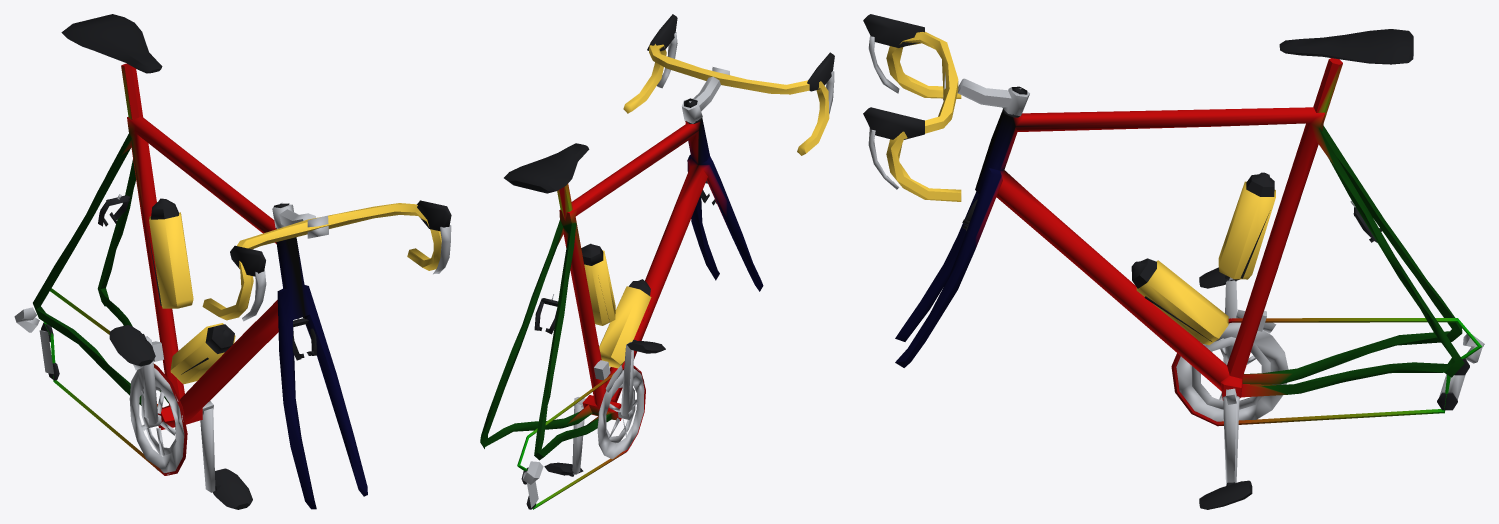
Rendered from retro_lod1.glb.
3 renders of one model, left to right at view 1: azimuth 30°, elevation 25°; view 2: azimuth 150°, elevation 25°; view 3: azimuth 270°, elevation 25°, orthographic. The views are drawn at different scales.
Visible parts, largest first — view 1: frame, cockpit, opt_bottles, crankset, saddle, pedal_R, opt_derailleur, pedal_L, opt_brakes_rim; view 2: frame, cockpit, opt_bottles, crankset, saddle, opt_derailleur, opt_brakes_rim; view 3: frame, cockpit, opt_bottles, crankset, saddle, opt_derailleur, pedal_L.
Part boxes in pixels (x1,y1,x2,y2): frame: (33,63,367,509); cockpit: (202,200,451,321); opt_bottles: (148,198,235,383); crankset: (129,336,215,492); saddle: (61,14,162,73); pedal_R: (109,325,155,366); opt_derailleur: (14,307,163,380); pedal_L: (213,468,252,509); opt_brakes_rim: (98,194,316,360); frame: (480,117,763,509); cockpit: (623,14,834,155); opt_bottles: (581,243,651,368); crankset: (572,342,644,474); saddle: (504,143,589,193); opt_derailleur: (521,360,622,509); opt_brakes_rim: (534,181,716,334); frame: (895,58,1482,426); cockpit: (863,14,1029,201); opt_bottles: (1131,172,1275,345); crankset: (1176,280,1288,484); saddle: (1279,29,1413,64); opt_derailleur: (1236,309,1484,410); pedal_L: (1199,480,1252,509).
Bounding box in the file's own units: 0.4646 × 0.885 × 1.13.
